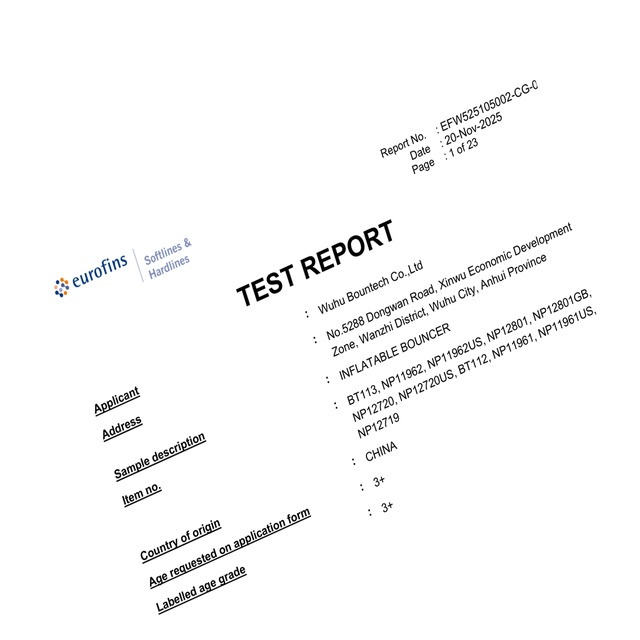eurofins: (50, 251, 134, 302)
